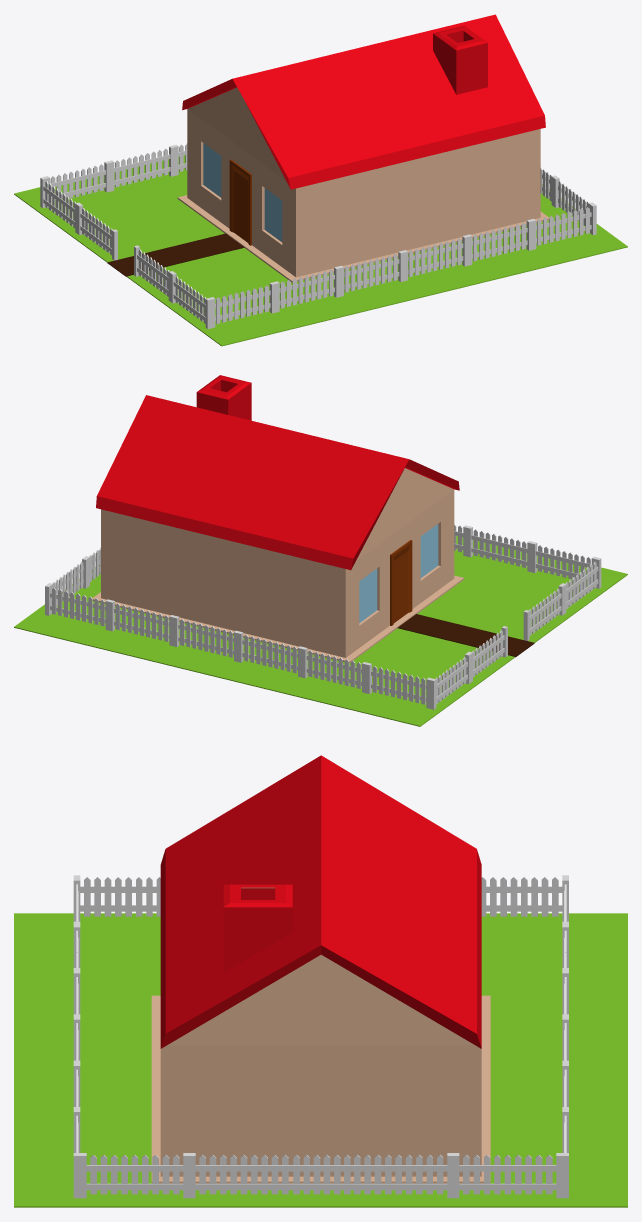
Rendered from House.fbx.
3 views of the same model, one above another, from view 1: azimuth 30°, elevation 25°; view 2: azimuth 150°, elevation 25°; view 3: azimuth 270°, elevation 25° (orthographic). The views are drawn at different scales.
Parts seen in each view (by area): view 1: Cube.002, Cube, Plane, Cube.005, Cube.003, Cube.004, Cube.001; view 2: Cube.002, Cube, Plane, Cube.005, Cube.003, Cube.004, Cube.001; view 3: Plane, Cube.002, Cube, Cube.005.
Part boxes in pixels (left/top/right/bottom): Cube.002: left=182, top=14, right=545, bottom=189; Cube: left=177, top=87, right=549, bottom=282; Plane: left=14, top=155, right=627, bottom=346; Cube.005: left=40, top=143, right=596, bottom=328; Cube.003: left=107, top=233, right=244, bottom=276; Cube.004: left=229, top=159, right=251, bottom=245; Cube.001: left=203, top=143, right=282, bottom=242; Cube.002: left=96, top=375, right=459, bottom=570; Cube: left=92, top=468, right=464, bottom=663; Plane: left=14, top=536, right=627, bottom=726; Cube.005: left=45, top=524, right=601, bottom=709; Cube.003: left=397, top=614, right=534, bottom=657; Cube.004: left=390, top=540, right=412, bottom=625; Cube.001: left=359, top=524, right=438, bottom=622; Plane: left=14, top=913, right=627, bottom=1207; Cube.002: left=160, top=755, right=481, bottom=1048; Cube: left=151, top=887, right=490, bottom=1183; Cube.005: left=73, top=875, right=568, bottom=1198.
Size of the model in its own units: 30.91 by 12.4 by 27.29.
